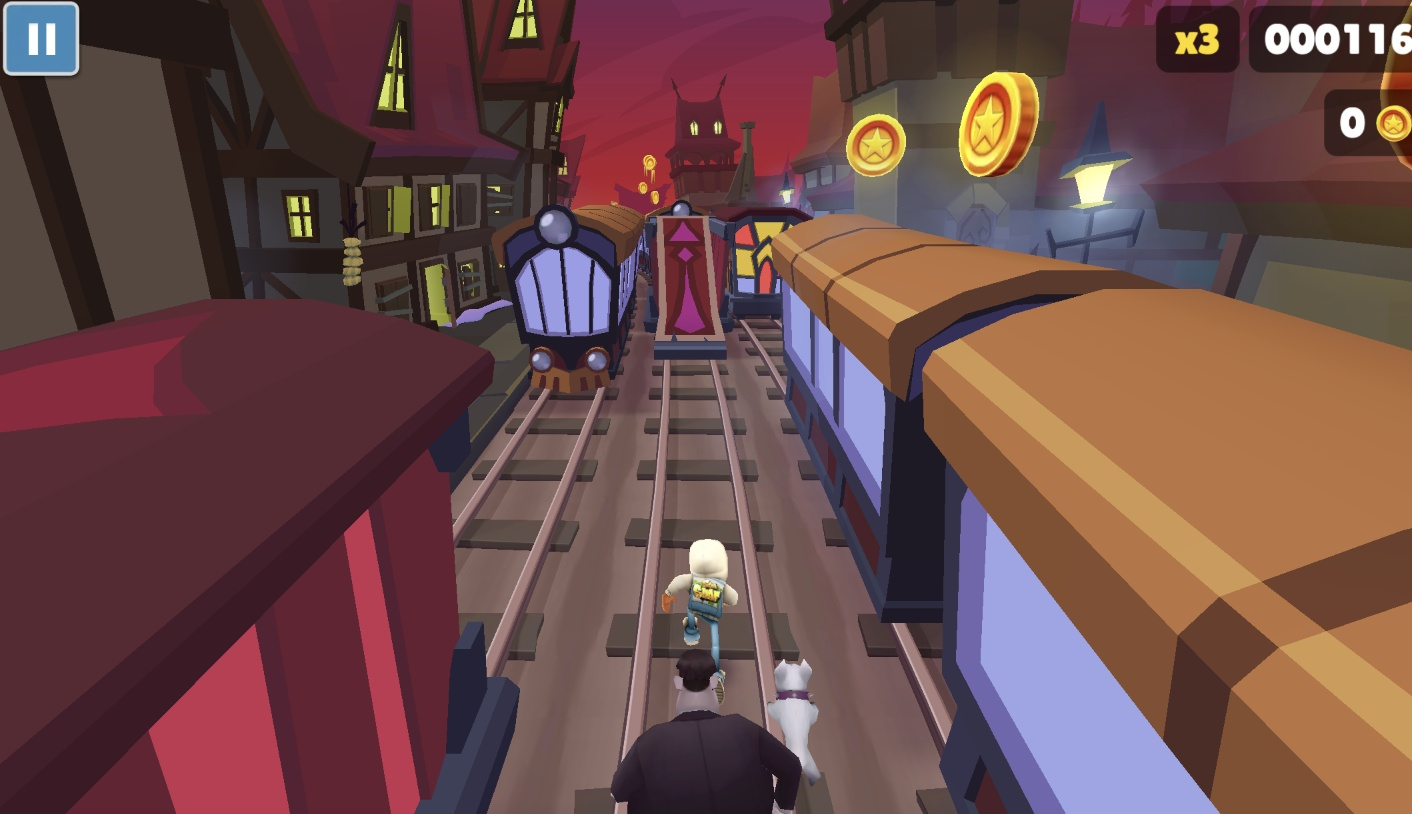train: (770, 215, 1412, 814), (0, 296, 497, 814), (491, 204, 646, 396), (642, 199, 736, 361), (718, 206, 832, 324)
